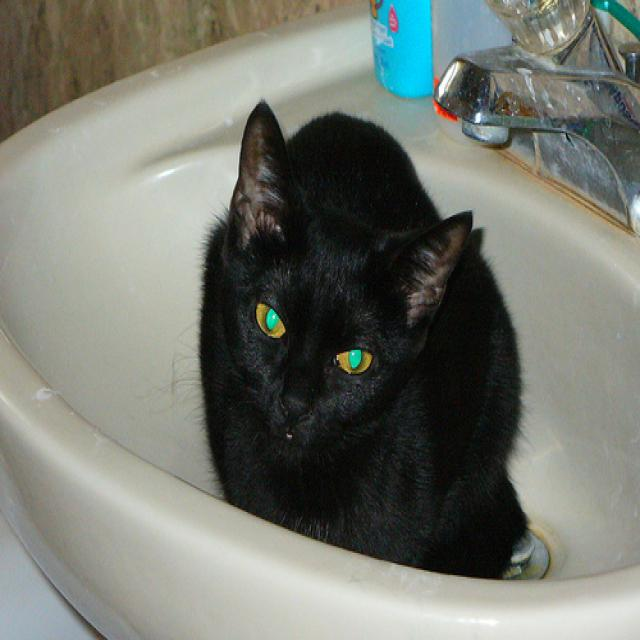cat: (196, 97, 541, 580)
